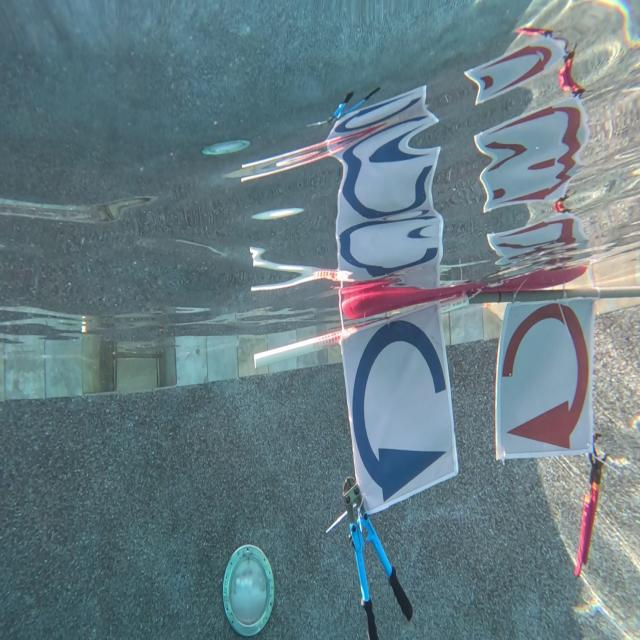blue_side: (341, 319, 454, 502)
red_side: (496, 301, 591, 450)
